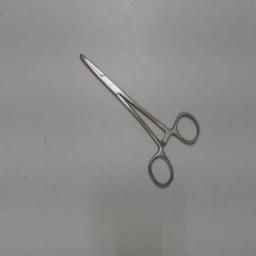Mayo Needle Holder: (73, 44, 205, 194)
